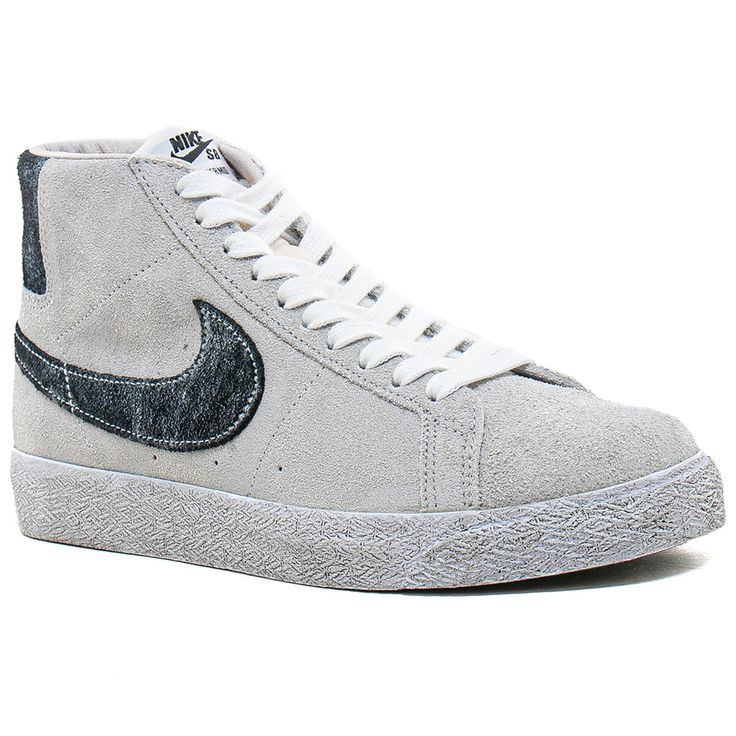gamuza: (12, 151, 700, 512)
